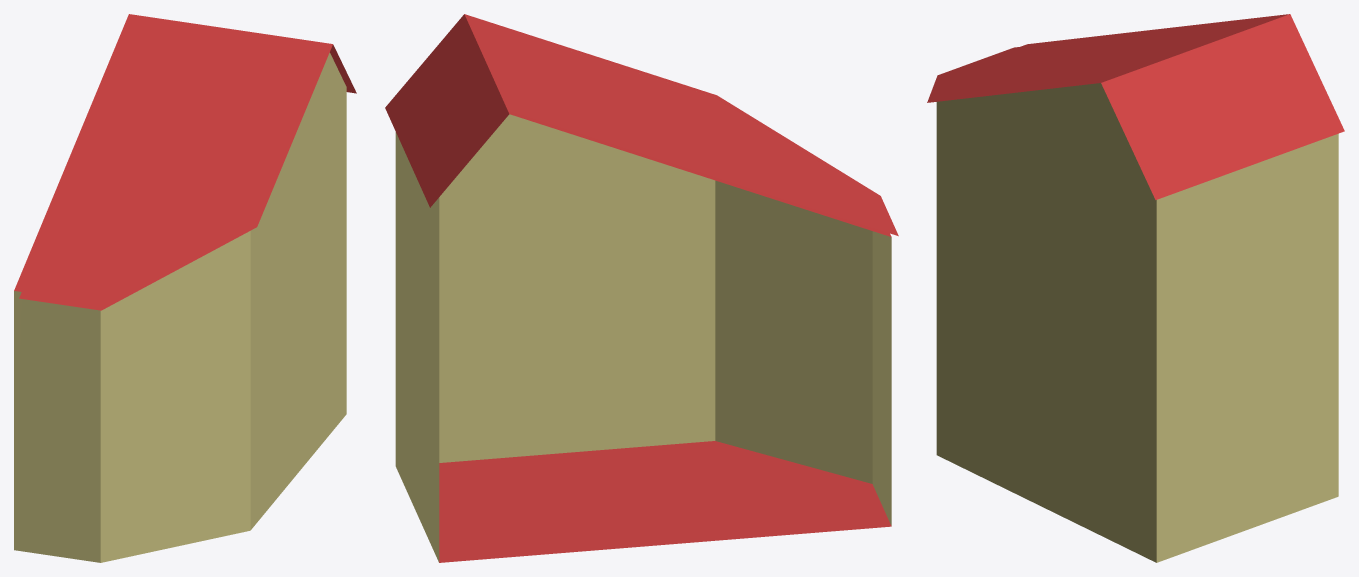
3 renders of one model, left to right at view 1: azimuth 30°, elevation 25°; view 2: azimuth 150°, elevation 25°; view 3: azimuth 270°, elevation 25°, orthographic. The views are drawn at different scales.
Bounding box in the file's own units: 14.01 × 10.99 × 13.31.
